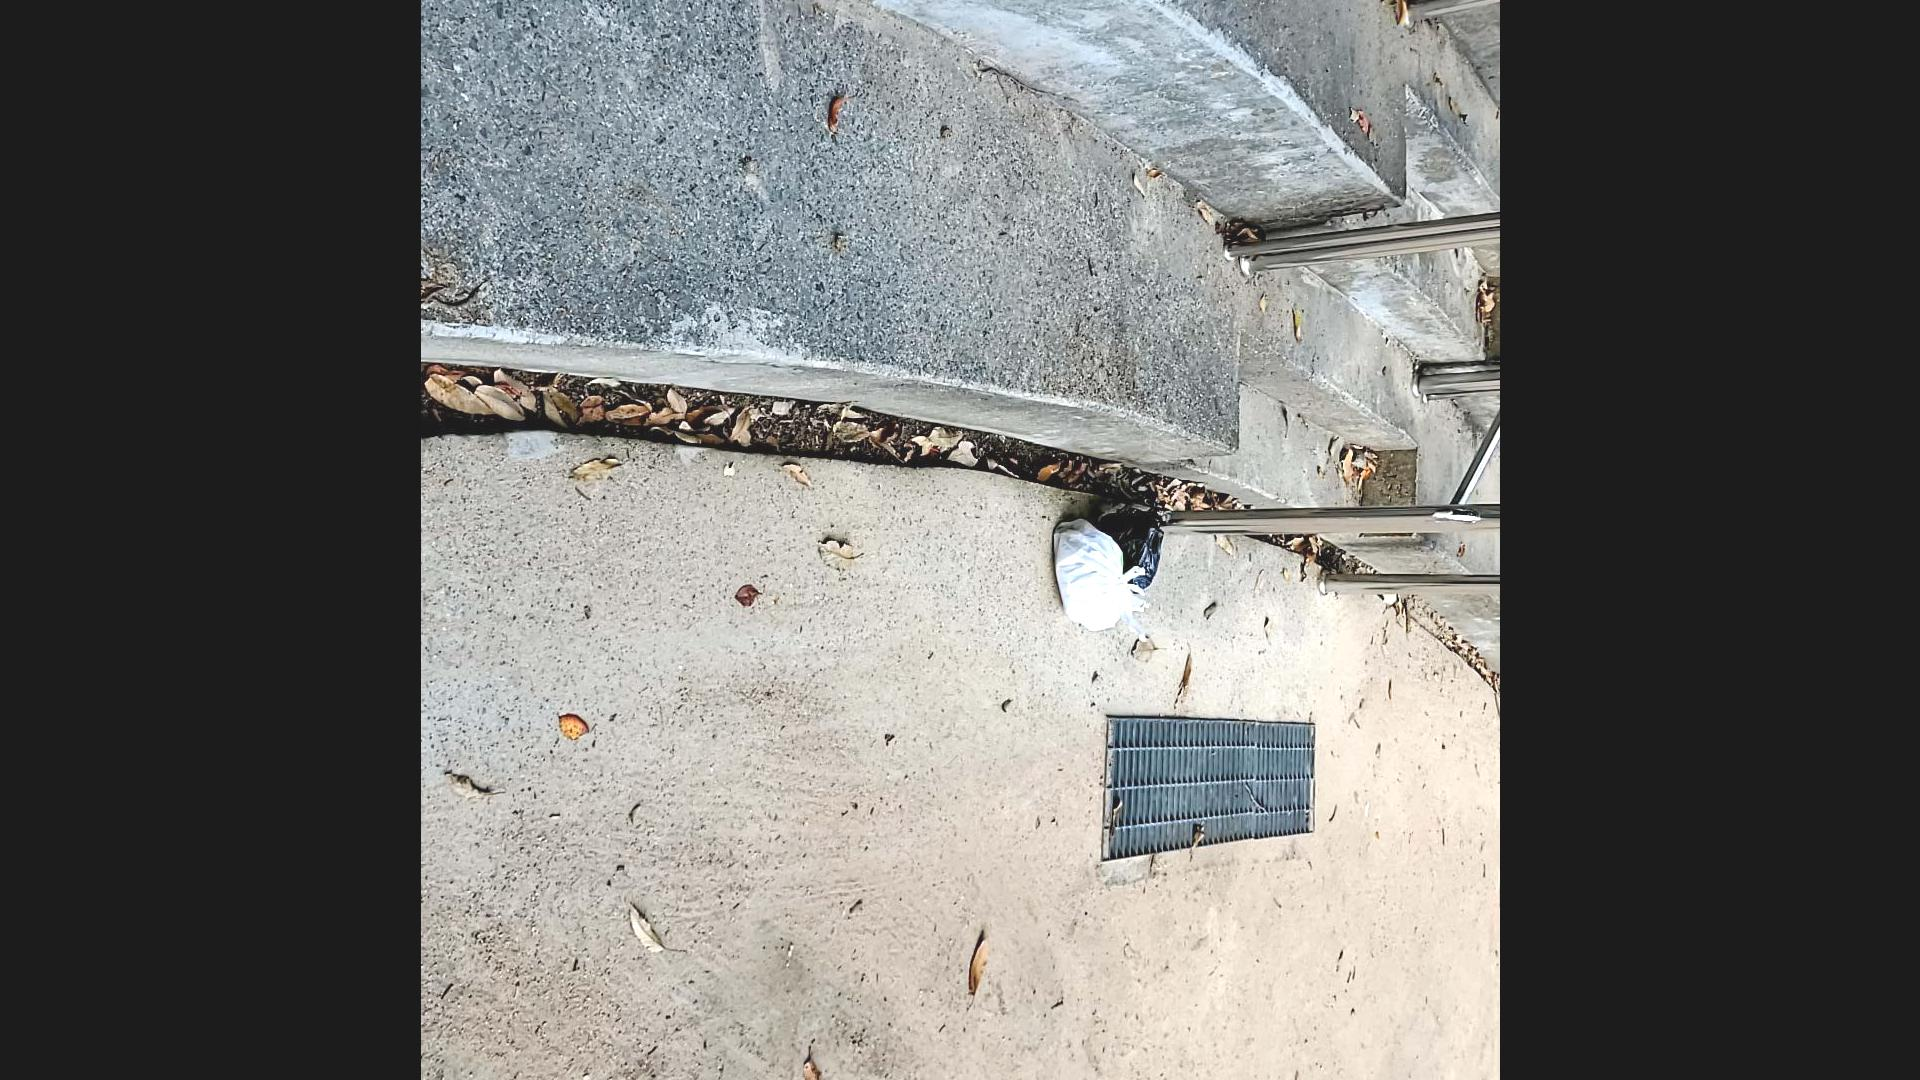black_bag: (1081, 487, 1168, 593)
white_bag: (1048, 516, 1150, 636)
